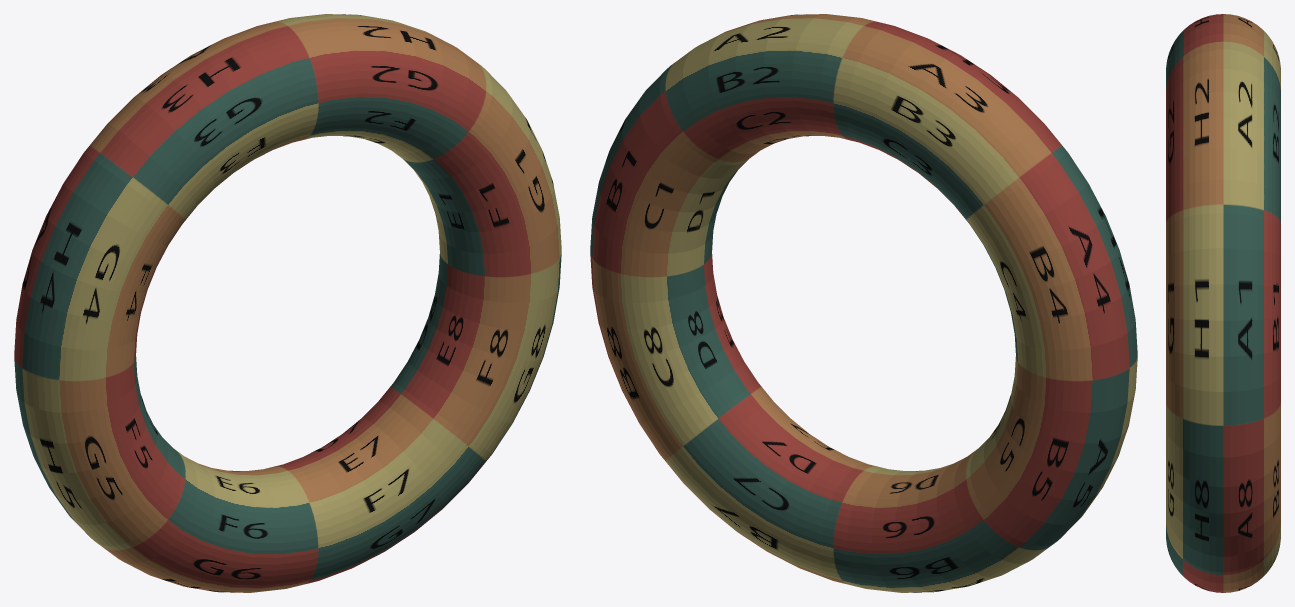
Rendered from texture_torus_R10_r8.glb.
The picture shows the model from 3 angles, left to right: view 1: azimuth 30°, elevation 25°; view 2: azimuth 150°, elevation 25°; view 3: azimuth 270°, elevation 25°; orthographic projection. The views are drawn at different scales.
Parts seen in each view (by area): view 1: world; view 2: world; view 3: world.
Part boxes in pixels (x1,y1,x2,y2): world: [14, 14, 561, 592]; world: [590, 14, 1137, 592]; world: [1166, 14, 1280, 592].
Bounding box in the file's own units: 20.8 × 20.76 × 4.13.
Materials: 1 (1 with a texture image).
